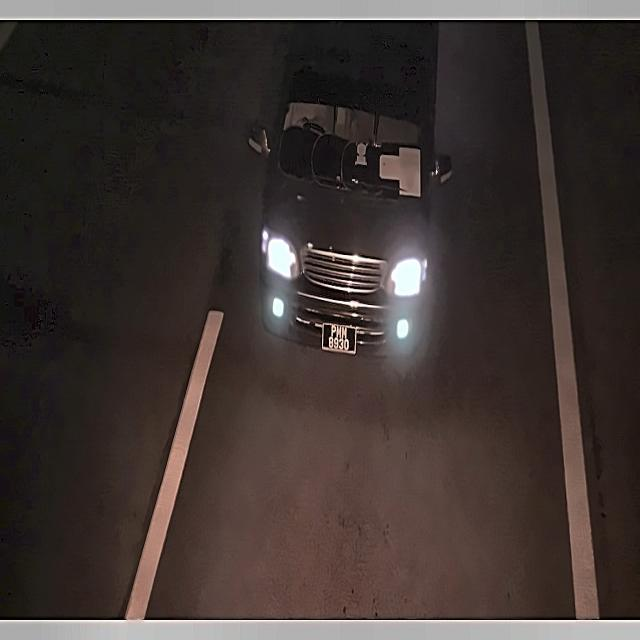car: (319, 318, 360, 356)
